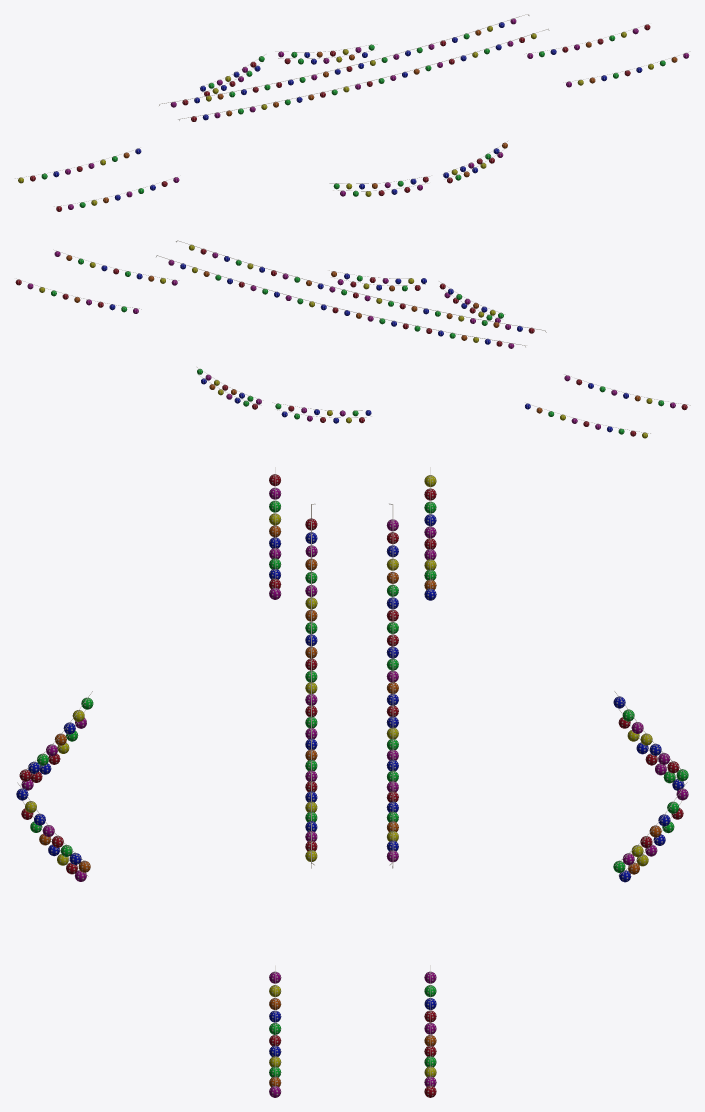
The model's file is objects_un_dlc0_c01lantern01.gltf.
3 renders of one model, top to bottom at view 1: azimuth 30°, elevation 25°; view 2: azimuth 150°, elevation 25°; view 3: azimuth 270°, elevation 25°, orthographic. The views are drawn at different scales.
Parts seen in each view (by area): view 1: um_objects_un_dlc0_c01lantern01_model_lod0Shape:objects_un_d; view 2: um_objects_un_dlc0_c01lantern01_model_lod0Shape:objects_un_d; view 3: um_objects_un_dlc0_c01lantern01_model_lod0Shape:objects_un_d.
Boxes of the visible parts, bbox=[...] form: um_objects_un_dlc0_c01lantern01_model_lod0Shape:objects_un_d: bbox=[14, 14, 690, 211]; um_objects_un_dlc0_c01lantern01_model_lod0Shape:objects_un_d: bbox=[15, 240, 690, 438]; um_objects_un_dlc0_c01lantern01_model_lod0Shape:objects_un_d: bbox=[16, 467, 688, 1097].
Size of what is drawn, in the model's own units: 74.29 by 7.1 by 33.9.
2 materials, 1 textured.
